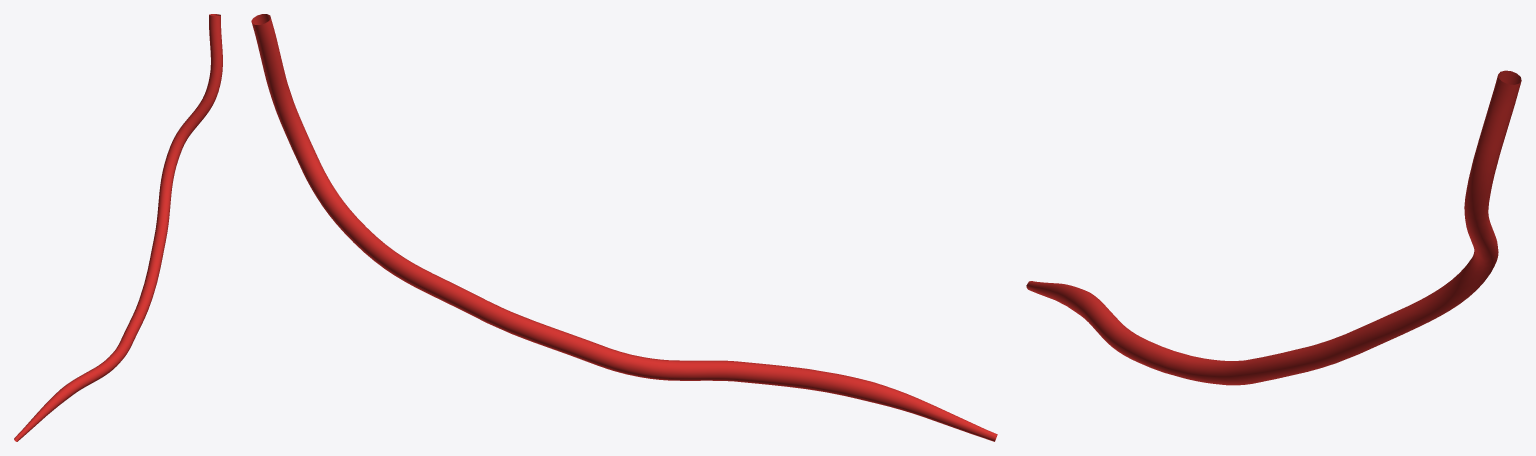
File: circulatorio-inferior-labial-artery-l.glb
3 views of the same model, side by side, from view 1: azimuth 30°, elevation 25°; view 2: azimuth 150°, elevation 25°; view 3: azimuth 270°, elevation 25° (orthographic). The views are drawn at different scales.
Parts seen in each view (by area): view 1: Inferior labial artery.l; view 2: Inferior labial artery.l; view 3: Inferior labial artery.l.
Part boxes in pixels (x1,y1,x2,y2): Inferior labial artery.l: (14, 14, 222, 441); Inferior labial artery.l: (251, 14, 997, 441); Inferior labial artery.l: (1026, 70, 1521, 385).
Size of the model in its own units: 0.0308 by 0.0238 by 0.0203.
